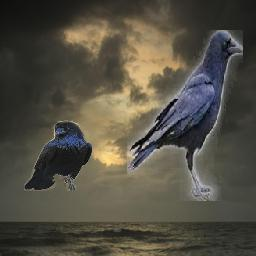Crow: (127, 31, 243, 202), (24, 121, 92, 192)
